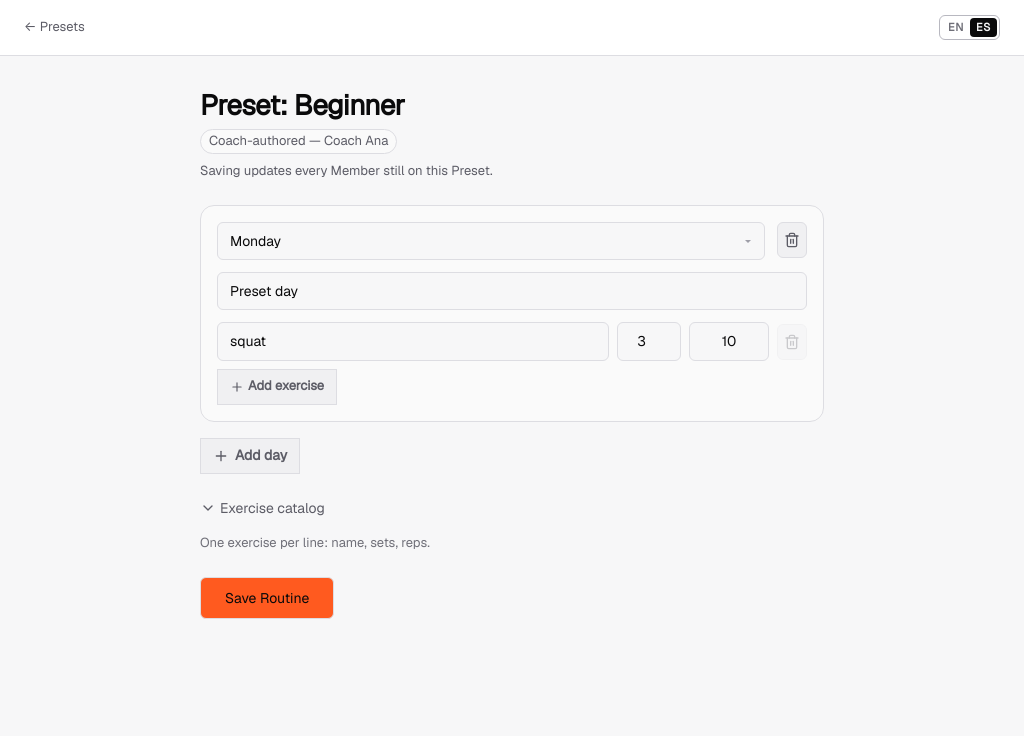
Test: RoutineEditor preset mode › shows the stale refusal with the fresh master
Expected: the heading "Preset: Beginner" is shown, left=200, top=87, right=405, bottom=123
Step 1. Click the button "Save Routine" → click(267, 598), box left=200, top=577, right=334, bottom=619
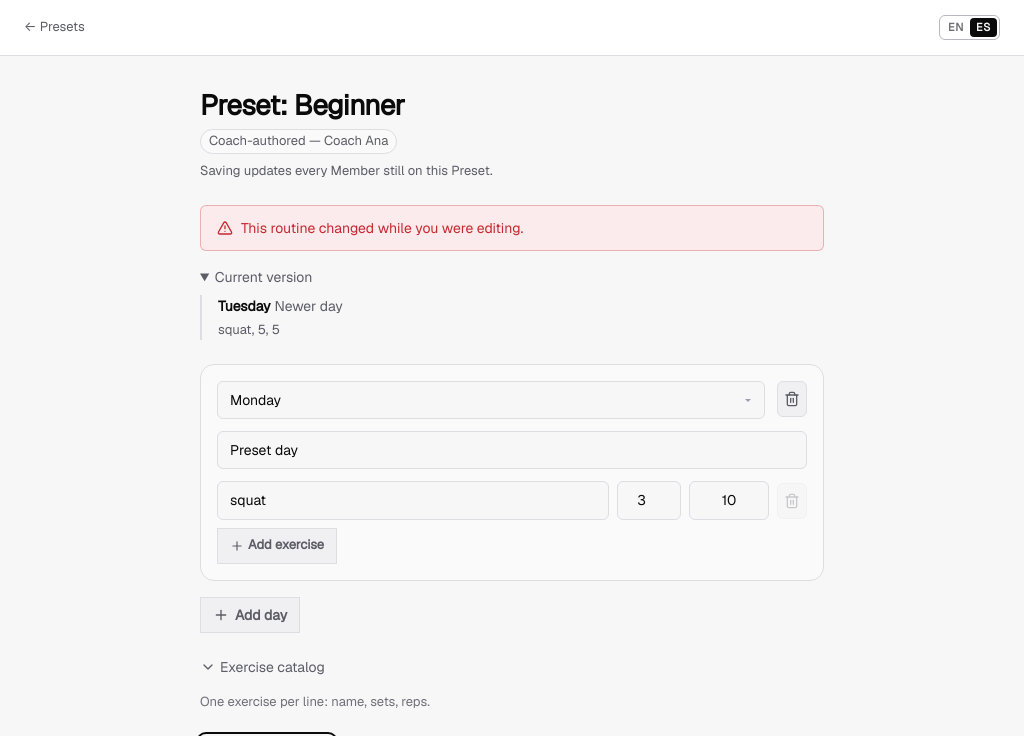
Expected: the text "This routine changed while you were editing." is shown, left=241, top=218, right=523, bottom=238
Expected: the text "Newer day" is shown, left=274, top=297, right=343, bottom=315
